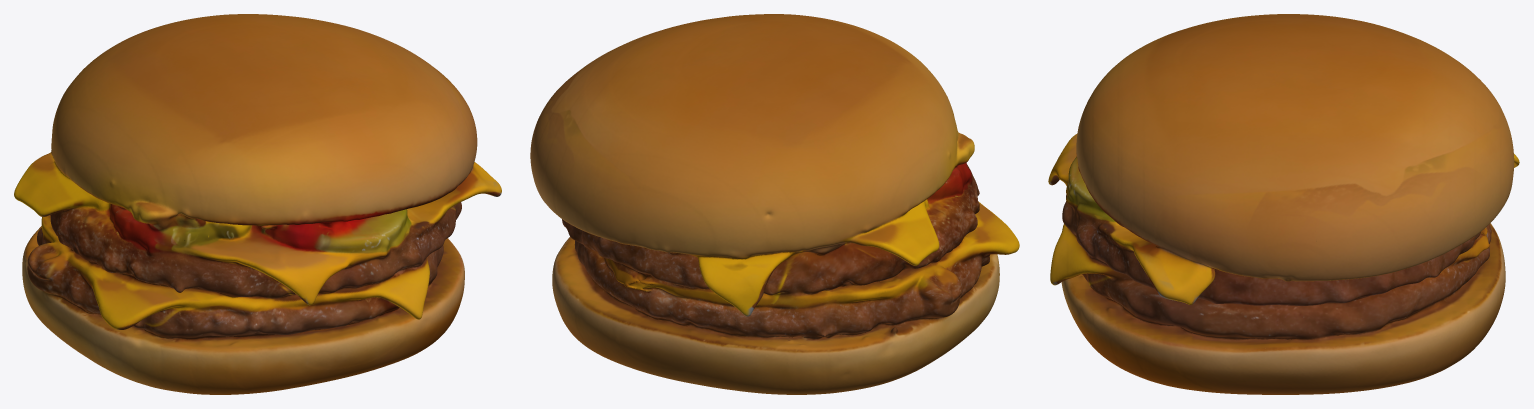
Rendered from hambuger.fbx.
3 renders of one model, left to right at view 1: azimuth 30°, elevation 25°; view 2: azimuth 150°, elevation 25°; view 3: azimuth 270°, elevation 25°, orthographic. The views are drawn at different scales.
Visible parts, largest first — view 1: tripo_node_65660dc2; view 2: tripo_node_65660dc2; view 3: tripo_node_65660dc2.
Part boxes in pixels (x1=…): tripo_node_65660dc2: x1=14, y1=14, x2=501, y2=394; tripo_node_65660dc2: x1=530, y1=14, x2=1019, y2=394; tripo_node_65660dc2: x1=1048, y1=14, x2=1519, y2=394.
Size of the model in its own units: 100 by 60.96 by 96.25.
1 material, 1 textured.
